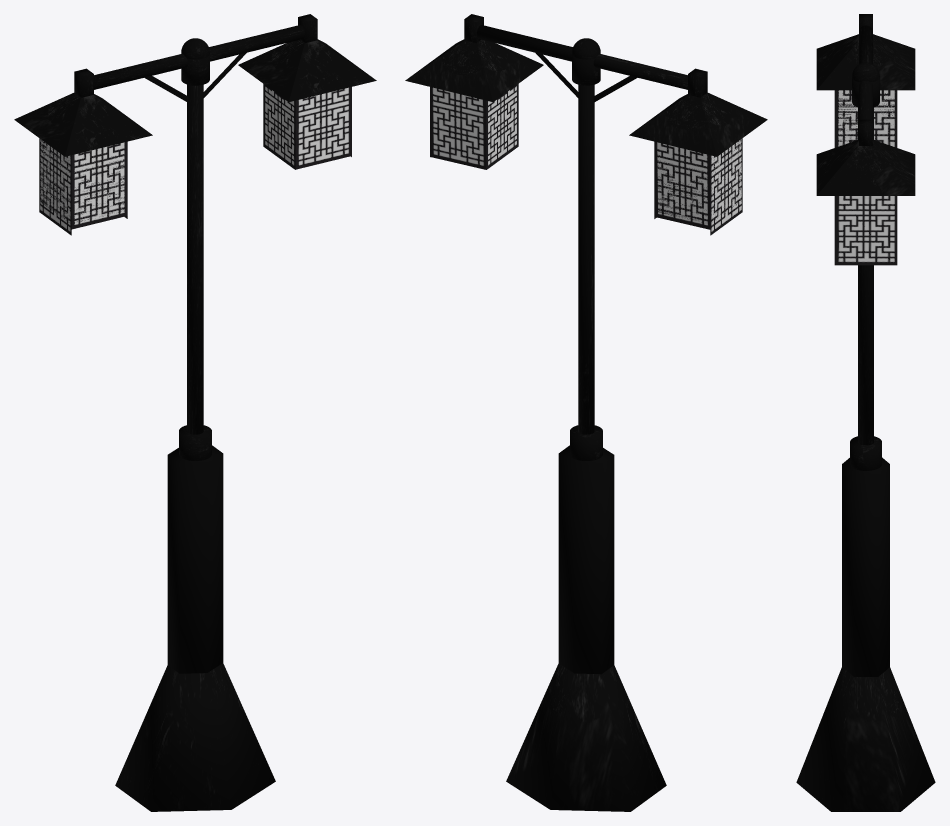
File: street_light_korea.fbx
The picture shows the model from 3 angles, left to right: view 1: azimuth 30°, elevation 25°; view 2: azimuth 150°, elevation 25°; view 3: azimuth 270°, elevation 25°; orthographic projection. The views are drawn at different scales.
Parts seen in each view (by area): view 1: lampadaire, light.001, light, lighthead2, lighthead, light.002; view 2: lampadaire, light.001, light, lighthead2, lighthead, light.002; view 3: lampadaire, lighthead, light, lighthead2, light.001, light.002.
Boxes of the visible parts, bbox=[...] form: lampadaire: bbox=[74, 14, 317, 811]; light.001: bbox=[39, 139, 127, 235]; light: bbox=[263, 84, 351, 169]; lighthead2: bbox=[14, 92, 152, 156]; lighthead: bbox=[238, 39, 376, 101]; light.002: bbox=[39, 138, 127, 224]; lampadaire: bbox=[464, 14, 707, 811]; light.001: bbox=[654, 138, 742, 235]; light: bbox=[430, 84, 518, 169]; lighthead2: bbox=[629, 92, 767, 156]; lighthead: bbox=[405, 39, 543, 101]; light.002: bbox=[654, 139, 742, 223]; lampadaire: bbox=[796, 14, 935, 811]; lighthead: bbox=[816, 139, 915, 195]; light: bbox=[834, 196, 897, 265]; lighthead2: bbox=[816, 34, 915, 90]; light.001: bbox=[834, 90, 897, 147]; light.002: bbox=[834, 90, 897, 147].
Bounding box in the file's own units: 2501 × 5698 × 1000.
